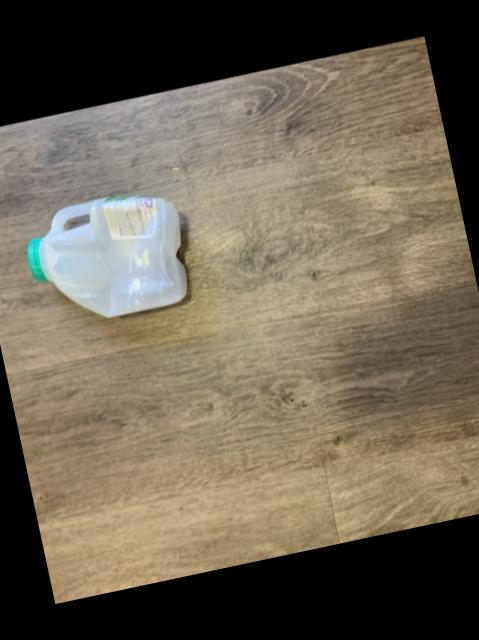plastic: (26, 198, 185, 318)
